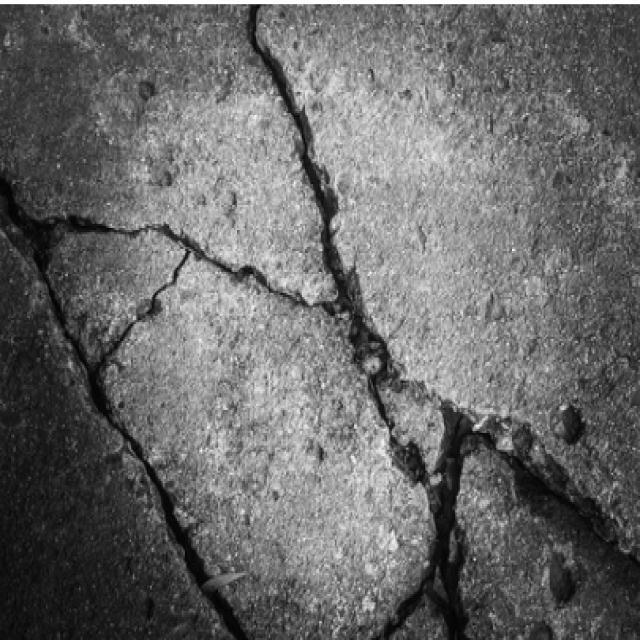branched cracks: (0, 5, 639, 639), (43, 270, 246, 639)
